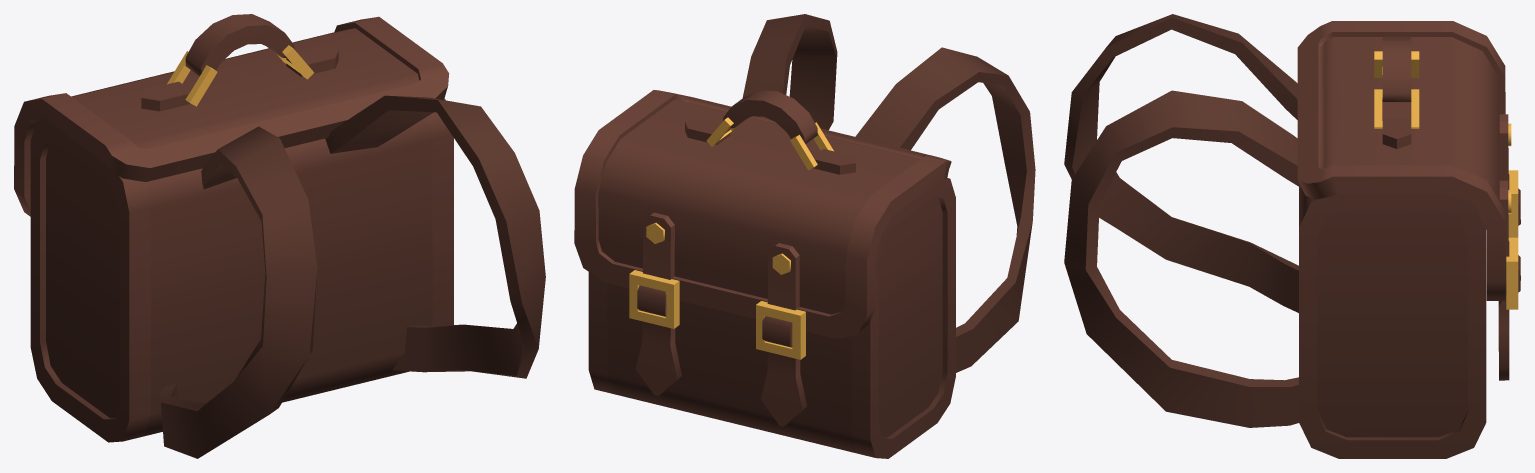
File: Bag_7.fbx
The picture shows the model from 3 angles, left to right: view 1: azimuth 30°, elevation 25°; view 2: azimuth 150°, elevation 25°; view 3: azimuth 270°, elevation 25°; orthographic projection. The views are drawn at different scales.
Visible parts, largest first — view 1: Bag_7; view 2: Bag_7; view 3: Bag_7.
Part boxes in pixels (x1,y1,x2,y2): Bag_7: [14, 14, 545, 458]; Bag_7: [574, 14, 1035, 458]; Bag_7: [1064, 14, 1520, 458].
Size of the model in its own units: 45.04 by 45.93 by 55.76.
